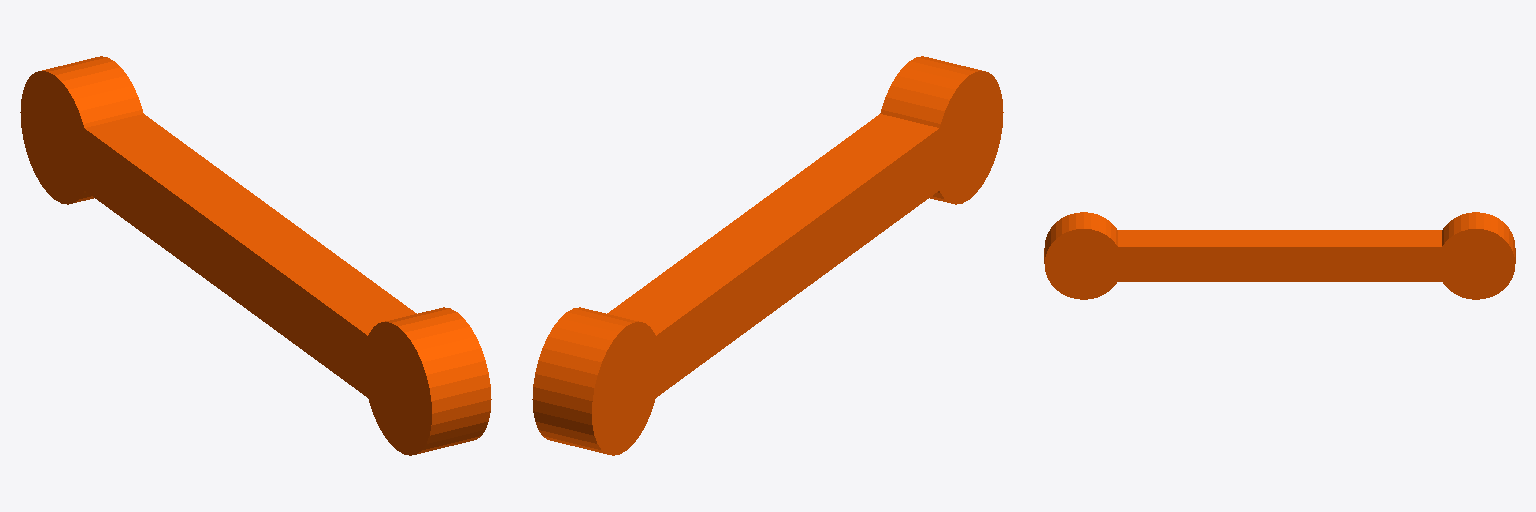
URDF robot description (onelink):
<?xml version="1.0" ?>

<robot name="onelink" xmlns:xacro="http://www.ros.org/wiki/xacro">
  <material name="Grey">
    <color rgba="0.2 0.2 0.2 1.0"/>
  </material>
  <material name="Orange">
    <color rgba="1.0 0.423529411765 0.0392156862745 1.0"/>
  </material>
  <material name="Blue">
  <color rgba="0.5 0.7 1.0 1.0"/>      
</material>
  <link name="world"/>

  <link name="link0">
    <visual>
      <geometry>
        <mesh filename="meshes/link.obj"/>
      </geometry>
      <material name="Orange"/>
    </visual>
    <collision>
      <geometry>
        <mesh filename="meshes/link.obj"/>
      </geometry>
    </collision>
    <inertial>
    <origin xyz="0 0.5 0.0"/>
      <mass value="1"/>
      <inertia ixx="0.0" ixy="0.0" ixz="0.0" iyy="0.0" iyz="0.0" izz="0.0"/>
    </inertial>
  </link>


  <joint name="joint0" type="continuous">
    <axis xyz="1 0 0"/>
    <origin rpy="0 0 0" xyz="0 0 0.05 "/>
    <parent link="world"/>
    <child link="link0"/>

  </joint>
  


</robot>

--- Facts derived from the render (not from the file) ---
Views: 3 orthographic renders of the robot side by side, from view 1: azimuth 30°, elevation 25°; view 2: azimuth 150°, elevation 25°; view 3: azimuth 270°, elevation 25°.
Model onelink with 2 links and 1 joints (1 continuous), rooted at world, posed every joint at zero.
Visible links, largest first — view 1: link0; view 2: link0; view 3: link0.
Boxes of the visible links, x1,y1,x2,y2 form: link0: [20, 56, 491, 455]; link0: [532, 56, 1003, 455]; link0: [1044, 212, 1515, 299].
Size in the robot's own frame: 0.1 by 1.2 by 0.2 metres.
1 mesh visuals loaded from 1 distinct referenced files (1 OBJ).